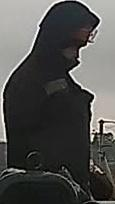helmet: (64, 20, 101, 44)
vest: (2, 62, 94, 196)
